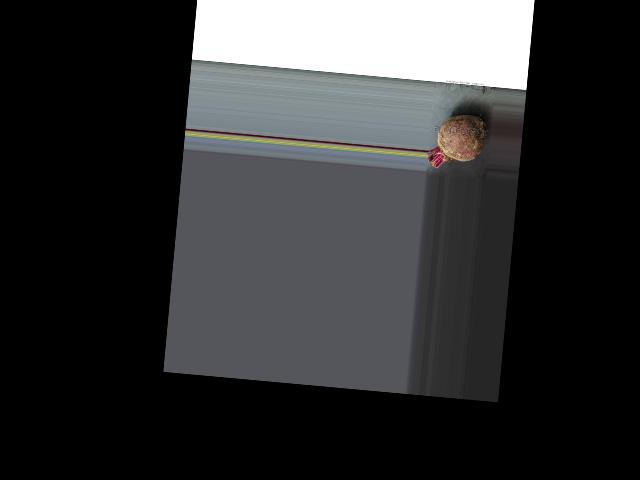beet: (426, 111, 487, 171)
